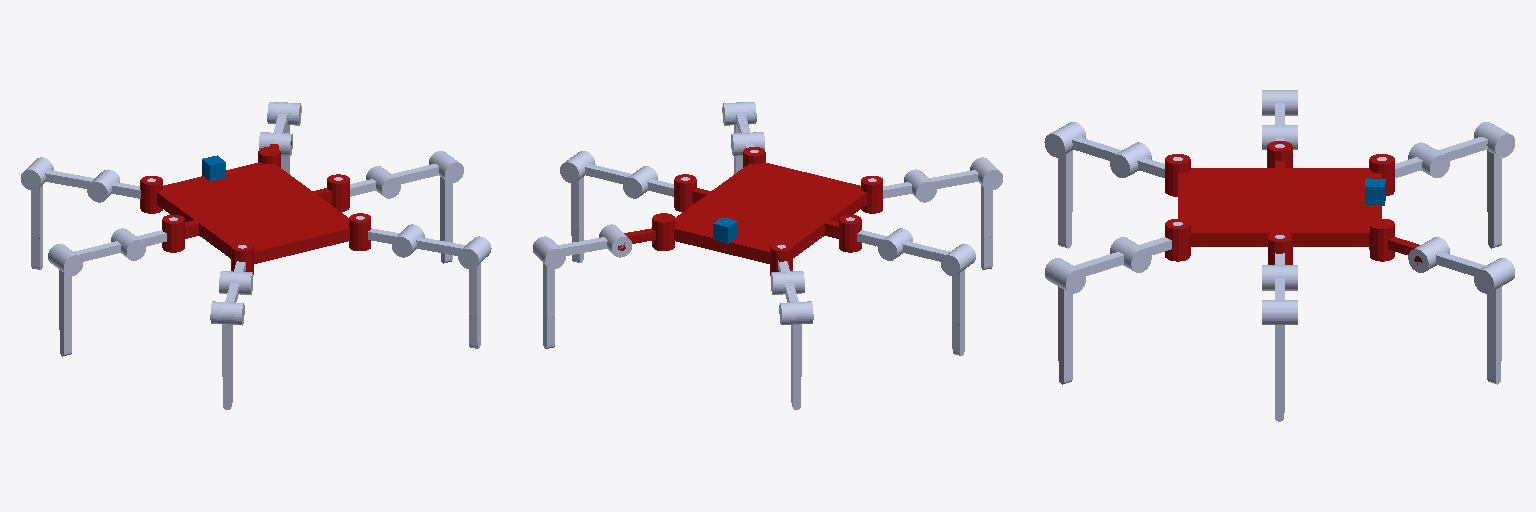
--- What the picture shows (computed from the rendered views, not written in the file) ---
Views: 3 orthographic renders of the robot side by side, from view 1: azimuth 30°, elevation 25°; view 2: azimuth 150°, elevation 25°; view 3: azimuth 270°, elevation 25°.
Robot: my_spideybot — 21 links, 20 joints (18 revolute, 2 fixed); root link dummy; default pose: every joint at zero.
Visible links, largest first — view 1: base_link, leg2_link, leg4_link, leg1_link, leg3_link, leg5_link, thigh3_link, thigh4_link, thigh2_link, thigh5_link, thigh1_link, leg6_link (+1 smaller); view 2: base_link, leg2_link, leg6_link, leg3_link, leg1_link, leg5_link, thigh1_link, thigh6_link, thigh2_link, thigh5_link, thigh3_link, leg4_link (+2 smaller); view 3: base_link, leg6_link, leg4_link, leg1_link, leg3_link, leg5_link, thigh3_link, thigh4_link, thigh1_link, thigh6_link, thigh5_link, thigh2_link (+2 smaller).
Link boxes in pixels (left/top/right/bottom): base_link: left=140, top=147, right=370, bottom=274; leg2_link: left=48, top=244, right=82, bottom=356; leg4_link: left=458, top=236, right=491, bottom=348; leg1_link: left=210, top=301, right=244, bottom=409; leg3_link: left=21, top=157, right=53, bottom=269; leg5_link: left=429, top=151, right=463, bottom=263; thigh3_link: left=27, top=169, right=119, bottom=202; thigh4_link: left=392, top=224, right=472, bottom=262; thigh2_link: left=70, top=228, right=145, bottom=269; thigh5_link: left=366, top=164, right=457, bottom=198; thigh1_link: left=219, top=271, right=252, bottom=316; leg6_link: left=267, top=102, right=301, bottom=173; base_link: left=652, top=147, right=882, bottom=275; leg2_link: left=941, top=244, right=975, bottom=355; leg6_link: left=533, top=236, right=565, bottom=348; leg3_link: left=779, top=301, right=813, bottom=409; leg1_link: left=970, top=157, right=1002, bottom=269; leg5_link: left=560, top=151, right=594, bottom=262; thigh1_link: left=904, top=169, right=996, bottom=202; thigh6_link: left=551, top=224, right=631, bottom=262; thigh2_link: left=878, top=228, right=953, bottom=268; thigh5_link: left=566, top=164, right=657, bottom=198; thigh3_link: left=771, top=271, right=804, bottom=316; leg4_link: left=722, top=102, right=756, bottom=173; base_link: left=1165, top=141, right=1394, bottom=264; leg6_link: left=1474, top=258, right=1514, bottom=384; leg4_link: left=1045, top=258, right=1085, bottom=384; leg1_link: left=1044, top=122, right=1085, bottom=248; leg3_link: left=1474, top=122, right=1514, bottom=248; leg5_link: left=1262, top=300, right=1297, bottom=421; thigh3_link: left=1408, top=137, right=1508, bottom=177; thigh4_link: left=1072, top=237, right=1151, bottom=286; thigh1_link: left=1051, top=136, right=1151, bottom=177; thigh6_link: left=1408, top=237, right=1487, bottom=285; thigh5_link: left=1262, top=265, right=1297, bottom=299; thigh2_link: left=1262, top=103, right=1297, bottom=149.
Size in the robot's own frame: 0.51 by 0.461 by 0.1426 metres.
Meshes: 19 distinct files referenced, 19 mesh visuals loaded (19 binary STL).

The robot description file, URDF, robot "my_spideybot":
<?xml version="1.0" encoding="utf-8"?>

<robot
  name="my_spideybot">
      <link name="dummy" />
    <joint name="dummy_base_link" type="fixed">
        <parent link="dummy" />
        <child link="base_link" />
    </joint>
  <link
    name="base_link">
    <inertial>
      <origin
        xyz="0.086929 -0.18825 0.11918"
        rpy="0 0 0" />
      <mass
        value="0.53458" />
      <inertia
        ixx="0.0020324"
        ixy="5.8234E-19"
        ixz="7.2524E-21"
        iyy="0.0015098"
        iyz="1.2138E-19"
        izz="0.0035077" />
    </inertial>
    <visual>
      <origin
        xyz="0 0 0"
        rpy="0 0 0" />
      <geometry>
        <mesh
          filename="package://my_spideybot/meshes/base_link.STL" />
      </geometry>
      <material
        name="">
        <color
          rgba="0.69412 0.098039 0.098039 1" />
      </material>
    </visual>
    <collision>
      <origin
        xyz="0 0 0"
        rpy="0 0 0" />
      <geometry>
        <mesh
          filename="package://my_spideybot/meshes/base_link.STL" />
      </geometry>
    </collision>
  </link>
  <link
    name="hip1_link">
    <inertial>
      <origin
        xyz="2.7756E-17 0.0175 0.02875"
        rpy="0 0 0" />
      <mass
        value="0.010462" />
      <inertia
        ixx="1.9878E-06"
        ixy="-1.2808E-23"
        ixz="-2.1176E-22"
        iyy="1.9878E-06"
        iyz="-4.8885E-13"
        izz="6.7997E-07" />
    </inertial>
    <visual>
      <origin
        xyz="0 0 0"
        rpy="0 0 0" />
      <geometry>
        <mesh
          filename="package://my_spideybot/meshes/hip1_link.STL" />
      </geometry>
      <material
        name="">
        <color
          rgba="0.79216 0.81961 0.93333 1" />
      </material>
    </visual>
    <collision>
      <origin
        xyz="0 0 0"
        rpy="0 0 0" />
      <geometry>
        <mesh
          filename="package://my_spideybot/meshes/hip1_link.STL" />
      </geometry>
    </collision>
  </link>
  <joint
    name="hip1_joint"
    type="revolute">
    <origin
      xyz="0.011929 -0.28825 0.10168"
      rpy="1.5708 0 -0.6435" />
    <parent
      link="base_link" />
    <child
      link="hip1_link" />
    <axis
      xyz="0 1 0" />
    <limit
      lower="-2.09"
      upper="2.09"
      effort="20"
      velocity="5" />
  </joint>
  <link
    name="thigh1_link">
    <inertial>
      <origin
        xyz="2.8109E-13 -2.3259E-06 0.018733"
        rpy="0 0 0" />
      <mass
        value="0.027144" />
      <inertia
        ixx="7.8675E-06"
        ixy="-1.8487E-17"
        ixz="-1.8122E-17"
        iyy="6.523E-06"
        iyz="-3.5464E-10"
        izz="2.8446E-06" />
    </inertial>
    <visual>
      <origin
        xyz="0 0 0"
        rpy="0 0 0" />
      <geometry>
        <mesh
          filename="package://my_spideybot/meshes/thigh1_link.STL" />
      </geometry>
      <material
        name="">
        <color
          rgba="0.79216 0.81961 0.93333 1" />
      </material>
    </visual>
    <collision>
      <origin
        xyz="0 0 0"
        rpy="0 0 0" />
      <geometry>
        <mesh
          filename="package://my_spideybot/meshes/thigh1_link.STL" />
      </geometry>
    </collision>
  </link>
  <joint
    name="thigh1_joint"
    type="revolute">
    <origin
      xyz="0 0.0175 0.0575"
      rpy="0 0 1.5708" />
    <parent
      link="hip1_link" />
    <child
      link="thigh1_link" />
    <axis
      xyz="0 -1 0" />
    <limit
      lower="-2.09"
      upper="2.09"
      effort="20"
      velocity="5" />
  </joint>
  <link
    name="leg1_link">
    <inertial>
      <origin
        xyz="2.7354E-05 -1.1102E-16 0.022876"
        rpy="0 0 0" />
      <mass
        value="0.028117" />
      <inertia
        ixx="2.0146E-05"
        ixy="8.4703E-22"
        ixz="-4.0889E-08"
        iyy="2.1225E-05"
        iyz="2.2443E-22"
        izz="2.6051E-06" />
    </inertial>
    <visual>
      <origin
        xyz="0 0 0"
        rpy="0 0 0" />
      <geometry>
        <mesh
          filename="package://my_spideybot/meshes/leg1_link.STL" />
      </geometry>
      <material
        name="">
        <color
          rgba="0.79216 0.81961 0.93333 1" />
      </material>
    </visual>
    <collision>
      <origin
        xyz="0 0 0"
        rpy="0 0 0" />
      <geometry>
        <mesh
          filename="package://my_spideybot/meshes/leg1_link.STL" />
      </geometry>
    </collision>
  </link>
  <joint
    name="leg1_joint"
    type="revolute">
    <origin
      xyz="0 0 0.08"
      rpy="1.5708 0 -1.5708" />
    <parent
      link="thigh1_link" />
    <child
      link="leg1_link" />
    <axis
      xyz="1 0 0" />
    <limit
      lower="-2.09"
      upper="2.09"
      effort="20"
      velocity="5" />
  </joint>
  <link
    name="hip2_link">
    <inertial>
      <origin
        xyz="0 -0.0175 -0.02875"
        rpy="0 0 0" />
      <mass
        value="0.010462" />
      <inertia
        ixx="1.9878E-06"
        ixy="2.0602E-24"
        ixz="7.0783E-23"
        iyy="1.9878E-06"
        iyz="-4.8885E-13"
        izz="6.7997E-07" />
    </inertial>
    <visual>
      <origin
        xyz="0 0 0"
        rpy="0 0 0" />
      <geometry>
        <mesh
          filename="package://my_spideybot/meshes/hip2_link.STL" />
      </geometry>
      <material
        name="">
        <color
          rgba="0.79216 0.81961 0.93333 1" />
      </material>
    </visual>
    <collision>
      <origin
        xyz="0 0 0"
        rpy="0 0 0" />
      <geometry>
        <mesh
          filename="package://my_spideybot/meshes/hip2_link.STL" />
      </geometry>
    </collision>
  </link>
  <joint
    name="hip2_joint"
    type="revolute">
    <origin
      xyz="-0.018071 -0.18825 0.10168"
      rpy="-1.5708 0 -1.5708" />
    <parent
      link="base_link" />
    <child
      link="hip2_link" />
    <axis
      xyz="0 -1 0" />
    <limit
      lower="-2.09"
      upper="2.09"
      effort="20"
      velocity="5" />
  </joint>
  <link
    name="thigh2_link">
    <inertial>
      <origin
        xyz="3.2477E-13 -2.3259E-06 0.018733"
        rpy="0 0 0" />
      <mass
        value="0.027144" />
      <inertia
        ixx="7.8675E-06"
        ixy="-2.1304E-17"
        ixz="1.0487E-17"
        iyy="6.523E-06"
        iyz="-3.5464E-10"
        izz="2.8446E-06" />
    </inertial>
    <visual>
      <origin
        xyz="0 0 0"
        rpy="0 0 0" />
      <geometry>
        <mesh
          filename="package://my_spideybot/meshes/thigh2_link.STL" />
      </geometry>
      <material
        name="">
        <color
          rgba="0.79216 0.81961 0.93333 1" />
      </material>
    </visual>
    <collision>
      <origin
        xyz="0 0 0"
        rpy="0 0 0" />
      <geometry>
        <mesh
          filename="package://my_spideybot/meshes/thigh2_link.STL" />
      </geometry>
    </collision>
  </link>
  <joint
    name="thigh2_joint"
    type="revolute">
    <origin
      xyz="0 -0.0175 -0.0575"
      rpy="3.1416 0 -1.5708" />
    <parent
      link="hip2_link" />
    <child
      link="thigh2_link" />
    <axis
      xyz="0 1 0" />
    <limit
      lower="-2.09"
      upper="2.09"
      effort="20"
      velocity="5" />
  </joint>
  <link
    name="leg2_link">
    <inertial>
      <origin
        xyz="2.7354E-05 3.9924E-13 0.022876"
        rpy="0 0 0" />
      <mass
        value="0.028117" />
      <inertia
        ixx="2.0146E-05"
        ixy="-1.5748E-14"
        ixz="-4.0889E-08"
        iyy="2.1225E-05"
        iyz="-5.9677E-16"
        izz="2.6051E-06" />
    </inertial>
    <visual>
      <origin
        xyz="0 0 0"
        rpy="0 0 0" />
      <geometry>
        <mesh
          filename="package://my_spideybot/meshes/leg2_link.STL" />
      </geometry>
      <material
        name="">
        <color
          rgba="0.79216 0.81961 0.93333 1" />
      </material>
    </visual>
    <collision>
      <origin
        xyz="0 0 0"
        rpy="0 0 0" />
      <geometry>
        <mesh
          filename="package://my_spideybot/meshes/leg2_link.STL" />
      </geometry>
    </collision>
  </link>
  <joint
    name="leg2_joint"
    type="revolute">
    <origin
      xyz="0 0 0.08"
      rpy="1.5708 0 -1.5708" />
    <parent
      link="thigh2_link" />
    <child
      link="leg2_link" />
    <axis
      xyz="1 0 0" />
    <limit
      lower="-2.09"
      upper="2.09"
      effort="20"
      velocity="5" />
  </joint>
  <link
    name="hip3_link">
    <inertial>
      <origin
        xyz="1.3878E-17 0.0175 0.02875"
        rpy="0 0 0" />
      <mass
        value="0.010462" />
      <inertia
        ixx="1.9878E-06"
        ixy="-2.7626E-23"
        ixz="-2.3823E-22"
        iyy="1.9878E-06"
        iyz="-4.8885E-13"
        izz="6.7997E-07" />
    </inertial>
    <visual>
      <origin
        xyz="0 0 0"
        rpy="0 0 0" />
      <geometry>
        <mesh
          filename="package://my_spideybot/meshes/hip3_link.STL" />
      </geometry>
      <material
        name="">
        <color
          rgba="0.79216 0.81961 0.93333 1" />
      </material>
    </visual>
    <collision>
      <origin
        xyz="0 0 0"
        rpy="0 0 0" />
      <geometry>
        <mesh
          filename="package://my_spideybot/meshes/hip3_link.STL" />
      </geometry>
    </collision>
  </link>
  <joint
    name="hip3_joint"
    type="revolute">
    <origin
      xyz="0.011929 -0.088245 0.10168"
      rpy="1.5708 0 -2.4981" />
    <parent
      link="base_link" />
    <child
      link="hip3_link" />
    <axis
      xyz="0 1 0" />
    <limit
      lower="-2.09"
      upper="2.09"
      effort="20"
      velocity="5" />
  </joint>
  <link
    name="thigh3_link">
    <inertial>
      <origin
        xyz="2.8109E-13 -2.3259E-06 0.018733"
        rpy="0 0 0" />
      <mass
        value="0.027144" />
      <inertia
        ixx="7.8675E-06"
        ixy="-1.8488E-17"
        ixz="-1.8124E-17"
        iyy="6.523E-06"
        iyz="-3.5464E-10"
        izz="2.8446E-06" />
    </inertial>
    <visual>
      <origin
        xyz="0 0 0"
        rpy="0 0 0" />
      <geometry>
        <mesh
          filename="package://my_spideybot/meshes/thigh3_link.STL" />
      </geometry>
      <material
        name="">
        <color
          rgba="0.79216 0.81961 0.93333 1" />
      </material>
    </visual>
    <collision>
      <origin
        xyz="0 0 0"
        rpy="0 0 0" />
      <geometry>
        <mesh
          filename="package://my_spideybot/meshes/thigh3_link.STL" />
      </geometry>
    </collision>
  </link>
  <joint
    name="thigh3_joint"
    type="revolute">
    <origin
      xyz="0 0.0175 0.0575"
      rpy="0 0 1.5708" />
    <parent
      link="hip3_link" />
    <child
      link="thigh3_link" />
    <axis
      xyz="0 1 0" />
    <limit
      lower="-2.09"
      upper="2.09"
      effort="20"
      velocity="5" />
  </joint>
  <link
    name="leg3_link">
    <inertial>
      <origin
        xyz="2.7354E-05 1.3878E-17 0.022876"
        rpy="0 0 0" />
      <mass
        value="0.028117" />
      <inertia
        ixx="2.0146E-05"
        ixy="-1.6941E-21"
        ixz="-4.0889E-08"
        iyy="2.1225E-05"
        iyz="-1.35E-21"
        izz="2.6051E-06" />
    </inertial>
    <visual>
      <origin
        xyz="0 0 0"
        rpy="0 0 0" />
      <geometry>
        <mesh
          filename="package://my_spideybot/meshes/leg3_link.STL" />
      </geometry>
      <material
        name="">
        <color
          rgba="0.79216 0.81961 0.93333 1" />
      </material>
    </visual>
    <collision>
      <origin
        xyz="0 0 0"
        rpy="0 0 0" />
      <geometry>
        <mesh
          filename="package://my_spideybot/meshes/leg3_link.STL" />
      </geometry>
    </collision>
  </link>
  <joint
    name="leg3_joint"
    type="revolute">
    <origin
      xyz="0 0 0.08"
      rpy="-1.5708 0 1.5708" />
    <parent
      link="thigh3_link" />
    <child
      link="leg3_link" />
    <axis
      xyz="1 0 0" />
    <limit
      lower="-2.09"
      upper="2.09"
      effort="20"
      velocity="5" />
  </joint>
  <link
    name="hip4_link">
    <inertial>
      <origin
        xyz="5.5511E-17 0.0175 0.02875"
        rpy="0 0 0" />
      <mass
        value="0.010462" />
      <inertia
        ixx="1.9878E-06"
        ixy="9.3745E-24"
        ixz="-1.1117E-21"
        iyy="1.9878E-06"
        iyz="-4.8885E-13"
        izz="6.7997E-07" />
    </inertial>
    <visual>
      <origin
        xyz="0 0 0"
        rpy="0 0 0" />
      <geometry>
        <mesh
          filename="package://my_spideybot/meshes/hip4_link.STL" />
      </geometry>
      <material
        name="">
        <color
          rgba="0.79216 0.81961 0.93333 1" />
      </material>
    </visual>
    <collision>
      <origin
        xyz="0 0 0"
        rpy="0 0 0" />
      <geometry>
        <mesh
          filename="package://my_spideybot/meshes/hip4_link.STL" />
      </geometry>
    </collision>
  </link>
  <joint
    name="hip4_joint"
    type="revolute">
    <origin
      xyz="0.16193 -0.28825 0.10168"
      rpy="1.5708 0 0.6435" />
    <parent
      link="base_link" />
    <child
      link="hip4_link" />
    <axis
      xyz="0 1 0" />
    <limit
      lower="-2.09"
      upper="2.09"
      effort="20"
      velocity="5" />
  </joint>
  <link
    name="thigh4_link">
    <inertial>
      <origin
        xyz="2.8111E-13 -2.3259E-06 0.018733"
        rpy="0 0 0" />
      <mass
        value="0.027144" />
      <inertia
        ixx="7.8675E-06"
        ixy="-1.8488E-17"
        ixz="-1.8123E-17"
        iyy="6.523E-06"
        iyz="-3.5464E-10"
        izz="2.8446E-06" />
    </inertial>
    <visual>
      <origin
        xyz="0 0 0"
        rpy="0 0 0" />
      <geometry>
        <mesh
          filename="package://my_spideybot/meshes/thigh4_link.STL" />
      </geometry>
      <material
        name="">
        <color
          rgba="0.79216 0.81961 0.93333 1" />
      </material>
    </visual>
    <collision>
      <origin
        xyz="0 0 0"
        rpy="0 0 0" />
      <geometry>
        <mesh
          filename="package://my_spideybot/meshes/thigh4_link.STL" />
      </geometry>
    </collision>
  </link>
  <joint
    name="thigh4_joint"
    type="revolute">
    <origin
      xyz="0 0.0175 0.0575"
      rpy="0 0 1.5708" />
    <parent
      link="hip4_link" />
    <child
      link="thigh4_link" />
    <axis
      xyz="0 -1 0" />
    <limit
      lower="-2.09"
      upper="2.09"
      effort="20"
      velocity="5" />
  </joint>
  <link
    name="leg4_link">
    <inertial>
      <origin
        xyz="2.7354E-05 5.5511E-17 0.022876"
        rpy="0 0 0" />
      <mass
        value="0.028117" />
      <inertia
        ixx="2.0146E-05"
        ixy="1.6941E-21"
        ixz="-4.0889E-08"
        iyy="2.1225E-05"
        iyz="-1.1551E-20"
        izz="2.6051E-06" />
    </inertial>
    <visual>
      <origin
        xyz="0 0 0"
        rpy="0 0 0" />
      <geometry>
        <mesh
          filename="package://my_spideybot/meshes/leg4_link.STL" />
      </geometry>
      <material
        name="">
        <color
          rgba="0.79216 0.81961 0.93333 1" />
      </material>
    </visual>
    <collision>
      <origin
        xyz="0 0 0"
        rpy="0 0 0" />
      <geometry>
        <mesh
          filename="package://my_spideybot/meshes/leg4_link.STL" />
      </geometry>
    </collision>
  </link>
  <joint
    name="leg4_joint"
    type="revolute">
    <origin
      xyz="0 0 0.08"
      rpy="1.5708 0 -1.5708" />
    <parent
      link="thigh4_link" />
    <child
      link="leg4_link" />
    <axis
      xyz="1 0 0" />
    <limit
      lower="-2.09"
      upper="2.09"
      effort="20"
      velocity="5" />
  </joint>
  <link
    name="hip5_link">
    <inertial>
      <origin
        xyz="0 0.0175 0.02875"
        rpy="0 0 0" />
      <mass
        value="0.010462" />
      <inertia
        ixx="1.9878E-06"
        ixy="1.4323E-24"
        ixz="-4.9299E-23"
        iyy="1.9878E-06"
        iyz="-4.8885E-13"
        izz="6.7997E-07" />
    </inertial>
    <visual>
      <origin
        xyz="0 0 0"
        rpy="0 0 0" />
      <geometry>
        <mesh
          filename="package://my_spideybot/meshes/hip5_link.STL" />
      </geometry>
      <material
        name="">
        <color
          rgba="0.79216 0.81961 0.93333 1" />
      </material>
    </visual>
    <collision>
      <origin
        xyz="0 0 0"
        rpy="0 0 0" />
      <geometry>
        <mesh
          filename="package://my_spideybot/meshes/hip5_link.STL" />
      </geometry>
    </collision>
  </link>
  <joint
    name="hip5_joint"
    type="revolute">
    <origin
      xyz="0.19193 -0.18825 0.10168"
      rpy="1.5708 0 1.5708" />
    <parent
      link="base_link" />
    <child
      link="hip5_link" />
    <axis
      xyz="0 1 0" />
    <limit
      lower="-2.09"
      upper="2.09"
      effort="20"
      velocity="5" />
  </joint>
  <link
    name="thigh5_link">
    <inertial>
      <origin
        xyz="3.2482E-13 -2.3259E-06 0.018733"
        rpy="0 0 0" />
      <mass
        value="0.027144" />
      <inertia
        ixx="7.8675E-06"
        ixy="-2.1304E-17"
        ixz="1.0487E-17"
        iyy="6.523E-06"
        iyz="-3.5464E-10"
        izz="2.8446E-06" />
    </inertial>
    <visual>
      <origin
        xyz="0 0 0"
        rpy="0 0 0" />
      <geometry>
        <mesh
          filename="package://my_spideybot/meshes/thigh5_link.STL" />
      </geometry>
      <material
        name="">
        <color
          rgba="0.79216 0.81961 0.93333 1" />
      </material>
    </visual>
    <collision>
      <origin
        xyz="0 0 0"
        rpy="0 0 0" />
      <geometry>
        <mesh
          filename="package://my_spideybot/meshes/thigh5_link.STL" />
      </geometry>
    </collision>
  </link>
  <joint
    name="thigh5_joint"
    type="revolute">
    <origin
      xyz="0 0.0175 0.0575"
      rpy="0 0 -1.5708" />
    <parent
      link="hip5_link" />
    <child
      link="thigh5_link" />
    <axis
      xyz="0 -1 0" />
    <limit
      lower="-2.09"
      upper="2.09"
      effort="20"
      velocity="5" />
  </joint>
  <link
    name="leg5_link">
    <inertial>
      <origin
        xyz="2.7354E-05 5.5511E-17 0.022876"
        rpy="0 0 0" />
      <mass
        value="0.028117" />
      <inertia
        ixx="2.0146E-05"
        ixy="1.2116E-22"
        ixz="-4.0889E-08"
        iyy="2.1225E-05"
        iyz="-3.431E-22"
        izz="2.6051E-06" />
    </inertial>
    <visual>
      <origin
        xyz="0 0 0"
        rpy="0 0 0" />
      <geometry>
        <mesh
          filename="package://my_spideybot/meshes/leg5_link.STL" />
      </geometry>
      <material
        name="">
        <color
          rgba="0.79216 0.81961 0.93333 1" />
      </material>
    </visual>
    <collision>
      <origin
        xyz="0 0 0"
        rpy="0 0 0" />
      <geometry>
        <mesh
          filename="package://my_spideybot/meshes/leg5_link.STL" />
      </geometry>
    </collision>
  </link>
  <joint
    name="leg5_joint"
    type="revolute">
    <origin
      xyz="0 0 0.08"
      rpy="-1.5708 0 -1.5708" />
    <parent
      link="thigh5_link" />
    <child
      link="leg5_link" />
    <axis
      xyz="1 0 0" />
    <limit
      lower="-2.09"
      upper="2.09"
      effort="20"
      velocity="5" />
  </joint>
  <link
    name="hip6_link">
    <inertial>
      <origin
        xyz="0.086929 -0.18825 0.11918"
        rpy="0 0 0" />
      <mass
        value="0.53458" />
      <inertia
        ixx="0.0020324"
        ixy="5.8234E-19"
        ixz="7.2524E-21"
        iyy="0.0015098"
        iyz="1.2138E-19"
        izz="0.0035077" />
    </inertial>
    <visual>
      <origin
        xyz="0 0 0"
        rpy="0 0 0" />
      <geometry>
        <mesh
          filename="package://my_spideybot/meshes/hip6_link.STL" />
      </geometry>
      <material
        name="">
        <color
          rgba="0.69412 0.098039 0.098039 1" />
      </material>
    </visual>
    <collision>
      <origin
        xyz="0 0 0"
        rpy="0 0 0" />
      <geometry>
        <mesh
          filename="package://my_spideybot/meshes/hip6_link.STL" />
      </geometry>
    </collision>
  </link>
  <joint
    name="hip6_joint"
    type="revolute">
    <origin
      xyz="0.16193 -0.088245 0.10168"
      rpy="1.5708 0 2.4981" />
    <parent
      link="base_link" />
    <child
      link="hip6_link" />
    <axis
      xyz="0 1 0" />
    <limit
      lower="-2.09"
      upper="2.09"
      effort="20"
      velocity="5" />
  </joint>
  <link
    name="thigh6_link">
    <inertial>
      <origin
        xyz="2.8109E-13 -2.3259E-06 0.018733"
        rpy="0 0 0" />
      <mass
        value="0.027144" />
      <inertia
        ixx="7.8675E-06"
        ixy="-1.8487E-17"
        ixz="-1.8124E-17"
        iyy="6.523E-06"
        iyz="-3.5464E-10"
        izz="2.8446E-06" />
    </inertial>
    <visual>
      <origin
        xyz="0 0 0"
        rpy="0 0 0" />
      <geometry>
        <mesh
          filename="package://my_spideybot/meshes/thigh6_link.STL" />
      </geometry>
      <material
        name="">
        <color
          rgba="0.79216 0.81961 0.93333 1" />
      </material>
    </visual>
    <collision>
      <origin
        xyz="0 0 0"
        rpy="0 0 0" />
      <geometry>
        <mesh
          filename="package://my_spideybot/meshes/thigh6_link.STL" />
      </geometry>
    </collision>
  </link>
  <joint
    name="thigh6_joint"
    type="revolute">
    <origin
      xyz="0 0.0175 0.0575"
      rpy="0 0 -1.5708" />
    <parent
      link="hip6_link" />
    <child
      link="thigh6_link" />
    <axis
      xyz="0 -1 0" />
    <limit
      lower="-2.09"
      upper="2.09"
      effort="20"
      velocity="5" />
  </joint>
  <link
    name="leg6_link">
    <inertial>
      <origin
        xyz="2.7354E-05 5.5511E-17 0.022876"
        rpy="0 0 0" />
      <mass
        value="0.028117" />
      <inertia
        ixx="2.0146E-05"
        ixy="1.6941E-21"
        ixz="-4.0889E-08"
        iyy="2.1225E-05"
        iyz="-6.3682E-21"
        izz="2.6051E-06" />
    </inertial>
    <visual>
      <origin
        xyz="0 0 0"
        rpy="0 0 0" />
      <geometry>
        <mesh
          filename="package://my_spideybot/meshes/leg6_link.STL" />
      </geometry>
      <material
        name="">
        <color
          rgba="0.79216 0.81961 0.93333 1" />
      </material>
    </visual>
    <collision>
      <origin
        xyz="0 0 0"
        rpy="0 0 0" />
      <geometry>
        <mesh
          filename="package://my_spideybot/meshes/leg6_link.STL" />
      </geometry>
    </collision>
  </link>
  <joint
    name="leg6_joint"
    type="revolute">
    <origin
      xyz="0 0 0.08"
      rpy="-1.5708 0 -1.5708" />
    <parent
      link="thigh6_link" />
    <child
      link="leg6_link" />
    <axis
      xyz="1 0 0" />
    <limit
      lower="-2.09"
      upper="2.09"
      effort="20"
      velocity="5" />
  </joint>
  <!-- Transmission of joint -->
  <transmission name="trans1">
    <type>transmission_interface/SimpleTransmission</type>
    <joint name="hip1_joint">
      <hardwareInterface>hardware_interface/EffortJointInterface</hardwareInterface>
    </joint>
    <actuator name="motor1">
      <hardwareInterface>hardware_interface/EffortJointInterface</hardwareInterface>
      <mechanicalReduction>1</mechanicalReduction>
    </actuator>
  </transmission>

  <transmission name="trans2">
    <type>transmission_interface/SimpleTransmission</type>
    <joint name="thigh1_joint">
      <hardwareInterface>hardware_interface/EffortJointInterface</hardwareInterface>
    </joint>
    <actuator name="motor2">
      <hardwareInterface>hardware_interface/EffortJointInterface</hardwareInterface>
      <mechanicalReduction>1</mechanicalReduction>
    </actuator>
  </transmission>

  <transmission name="trans3">
    <type>transmission_interface/SimpleTransmission</type>
    <joint name="leg1_joint">
      <hardwareInterface>hardware_interface/EffortJointInterface</hardwareInterface>
    </joint>
    <actuator name="motor3">
      <hardwareInterface>hardware_interface/EffortJointInterface</hardwareInterface>
      <mechanicalReduction>1</mechanicalReduction>
    </actuator>
  </transmission>

  <transmission name="trans4">
    <type>transmission_interface/SimpleTransmission</type>
    <joint name="hip2_joint">
      <hardwareInterface>hardware_interface/EffortJointInterface</hardwareInterface>
    </joint>
    <actuator name="motor4">
      <hardwareInterface>hardware_interface/EffortJointInterface</hardwareInterface>
      <mechanicalReduction>1</mechanicalReduction>
    </actuator>
  </transmission>

  <transmission name="trans5">
    <type>transmission_interface/SimpleTransmission</type>
    <joint name="thigh2_joint">
      <hardwareInterface>hardware_interface/EffortJointInterface</hardwareInterface>
    </joint>
    <actuator name="motor5">
      <hardwareInterface>hardware_interface/EffortJointInterface</hardwareInterface>
      <mechanicalReduction>1</mechanicalReduction>
    </actuator>
  </transmission>

  <transmission name="trans6">
    <type>transmission_interface/SimpleTransmission</type>
    <joint name="leg2_joint">
      <hardwareInterface>hardware_interface/EffortJointInterface</hardwareInterface>
    </joint>
    <actuator name="motor6">
      <hardwareInterface>hardware_interface/EffortJointInterface</hardwareInterface>
      <mechanicalReduction>1</mechanicalReduction>
    </actuator>
  </transmission>

  <transmission name="trans7">
    <type>transmission_interface/SimpleTransmission</type>
    <joint name="hip3_joint">
      <hardwareInterface>hardware_interface/EffortJointInterface</hardwareInterface>
    </joint>
    <actuator name="motor7">
      <hardwareInterface>hardware_interface/EffortJointInterface</hardwareInterface>
      <mechanicalReduction>1</mechanicalReduction>
    </actuator>
  </transmission>

  <transmission name="trans8">
    <type>transmission_interface/SimpleTransmission</type>
    <joint name="thigh3_joint">
      <hardwareInterface>hardware_interface/EffortJointInterface</hardwareInterface>
    </joint>
    <actuator name="motor8">
      <hardwareInterface>hardware_interface/EffortJointInterface</hardwareInterface>
      <mechanicalReduction>1</mechanicalReduction>
    </actuator>
  </transmission>

  <transmission name="trans9">
    <type>transmission_interface/SimpleTransmission</type>
    <joint name="leg3_joint">
      <hardwareInterface>hardware_interface/EffortJointInterface</hardwareInterface>
    </joint>
    <actuator name="motor9">
      <hardwareInterface>hardware_interface/EffortJointInterface</hardwareInterface>
      <mechanicalReduction>1</mechanicalReduction>
    </actuator>
  </transmission>

  <transmission name="trans10">
    <type>transmission_interface/SimpleTransmission</type>
    <joint name="hip4_joint">
      <hardwareInterface>hardware_interface/EffortJointInterface</hardwareInterface>
    </joint>
    <actuator name="motor10">
      <hardwareInterface>hardware_interface/EffortJointInterface</hardwareInterface>
      <mechanicalReduction>1</mechanicalReduction>
    </actuator>
  </transmission>

  <transmission name="trans11">
    <type>transmission_interface/SimpleTransmission</type>
    <joint name="thigh4_joint">
      <hardwareInterface>hardware_interface/EffortJointInterface</hardwareInterface>
    </joint>
    <actuator name="motor11">
      <hardwareInterface>hardware_interface/EffortJointInterface</hardwareInterface>
      <mechanicalReduction>1</mechanicalReduction>
    </actuator>
  </transmission>

  <transmission name="trans12">
    <type>transmission_interface/SimpleTransmission</type>
    <joint name="leg4_joint">
      <hardwareInterface>hardware_interface/EffortJointInterface</hardwareInterface>
    </joint>
    <actuator name="motor12">
      <hardwareInterface>hardware_interface/EffortJointInterface</hardwareInterface>
      <mechanicalReduction>1</mechanicalReduction>
    </actuator>
  </transmission>

  <transmission name="trans13">
    <type>transmission_interface/SimpleTransmission</type>
    <joint name="hip5_joint">
      <hardwareInterface>hardware_interface/EffortJointInterface</hardwareInterface>
    </joint>
    <actuator name="motor13">
      <hardwareInterface>hardware_interface/EffortJointInterface</hardwareInterface>
      <mechanicalReduction>1</mechanicalReduction>
    </actuator>
  </transmission>

  <transmission name="trans14">
    <type>transmission_interface/SimpleTransmission</type>
    <joint name="thigh5_joint">
      <hardwareInterface>hardware_interface/EffortJointInterface</hardwareInterface>
    </joint>
    <actuator name="motor14">
      <hardwareInterface>hardware_interface/EffortJointInterface</hardwareInterface>
      <mechanicalReduction>1</mechanicalReduction>
    </actuator>
  </transmission>

  <transmission name="trans15">
    <type>transmission_interface/SimpleTransmission</type>
    <joint name="leg5_joint">
      <hardwareInterface>hardware_interface/EffortJointInterface</hardwareInterface>
    </joint>
    <actuator name="motor15">
      <hardwareInterface>hardware_interface/EffortJointInterface</hardwareInterface>
      <mechanicalReduction>1</mechanicalReduction>
    </actuator>
  </transmission>

  <transmission name="trans16">
    <type>transmission_interface/SimpleTransmission</type>
    <joint name="hip6_joint">
      <hardwareInterface>hardware_interface/EffortJointInterface</hardwareInterface>
    </joint>
    <actuator name="motor16">
      <hardwareInterface>hardware_interface/EffortJointInterface</hardwareInterface>
      <mechanicalReduction>1</mechanicalReduction>
    </actuator>
  </transmission>

  <transmission name="trans17">
    <type>transmission_interface/SimpleTransmission</type>
    <joint name="thigh6_joint">
      <hardwareInterface>hardware_interface/EffortJointInterface</hardwareInterface>
    </joint>
    <actuator name="motor17">
      <hardwareInterface>hardware_interface/EffortJointInterface</hardwareInterface>
      <mechanicalReduction>1</mechanicalReduction>
    </actuator>
  </transmission>

  <transmission name="trans18">
    <type>transmission_interface/SimpleTransmission</type>
    <joint name="leg6_joint">
      <hardwareInterface>hardware_interface/EffortJointInterface</hardwareInterface>
    </joint>
    <actuator name="motor18">
      <hardwareInterface>hardware_interface/EffortJointInterface</hardwareInterface>
      <mechanicalReduction>1</mechanicalReduction>
    </actuator>
  </transmission>

  <!-- Controller plugin -->
  <gazebo>
    <plugin filename="libgazebo_ros_control.so" name="gazebo_ros_control">
      <robotNamespace>/my_spideybot</robotNamespace>
      <robotSimType>gazebo_ros_control/DefaultRobotHWSim</robotSimType>
    </plugin>
  </gazebo>

  <link name="camera_link">
    <visual>
      <origin xyz="0.0 0.0 0.0" rpy="0.0 0.0 0.0" />
      <geometry>
        <box size="0.02 0.02 0.02" />
      </geometry>
    </visual>
  </link>

  <joint name="camera_joint" type="fixed">
    <origin xyz="0.086929 -0.095 0.136" rpy="0.0 0.0 1.52" />
    <parent link="base_link" />
    <child link="camera_link" />
  </joint>

  <gazebo reference="camera_link">
    <sensor type="camera" name="camera1">
      <update_rate>30.0</update_rate>
      <camera name="head">
        <horizontal_fov>1.3962634</horizontal_fov>
        <image>
          <width>800</width>
          <height>800</height>
          <format>R8G8B8</format>
        </image>
        <clip>
          <near>0.02</near>
          <far>300</far>
        </clip>
      </camera>
      <plugin name="camera_controller" filename="libgazebo_ros_camera.so">
        <alwaysOn>true</alwaysOn>
        <updateRate>0.0</updateRate>
        <cameraName>my_spideybot/camera1</cameraName>
        <imageTopicName>image_raw</imageTopicName>
        <cameraInfoTopicName>camera_info</cameraInfoTopicName>
        <frameName>camera_link</frameName>
        <hackBaseline>0.07</hackBaseline>
        <distortionK1>0.0</distortionK1>
        <distortionK2>0.0</distortionK2>
        <distortionK3>0.0</distortionK3>
        <distortionT1>0.0</distortionT1>
        <distortionT2>0.0</distortionT2>
      </plugin>
    </sensor>
  </gazebo>

  <gazebo reference="camera_link">
    <material>Gazebo/Green</material>
    <turnGravityOff>false</turnGravityOff>
  </gazebo>
  <gazebo reference="base_link">
    <material>Gazebo/Red</material>
    <turnGravityOff>false</turnGravityOff>
  </gazebo>
  <gazebo reference="hip1_link">
    <material>Gazebo/Blue</material>
    <turnGravityOff>false</turnGravityOff>
  </gazebo>
  <gazebo reference="thigh1_link">
    <material>Gazebo/Orange</material>
    <turnGravityOff>false</turnGravityOff>
  </gazebo>
  <gazebo reference="leg1_link">
    <material>Gazebo/Orange</material>
    <turnGravityOff>false</turnGravityOff>
  </gazebo>

  <gazebo reference="hip2_link">
    <material>Gazebo/Blue</material>
    <turnGravityOff>false</turnGravityOff>
  </gazebo>
  <gazebo reference="thigh2_link">
    <material>Gazebo/Orange</material>
    <turnGravityOff>false</turnGravityOff>
  </gazebo>
  <gazebo reference="leg2_link">
    <material>Gazebo/Orange</material>
    <turnGravityOff>false</turnGravityOff>
  </gazebo>

  <gazebo reference="hip3_link">
    <material>Gazebo/Blue</material>
    <turnGravityOff>false</turnGravityOff>
  </gazebo>
  <gazebo reference="thigh3_link">
    <material>Gazebo/Orange</material>
    <turnGravityOff>false</turnGravityOff>
  </gazebo>
  <gazebo reference="leg3_link">
    <material>Gazebo/Orange</material>
    <turnGravityOff>false</turnGravityOff>
  </gazebo>

  <gazebo reference="hip4_link">
    <material>Gazebo/Blue</material>
    <turnGravityOff>false</turnGravityOff>
  </gazebo>
  <gazebo reference="thigh4_link">
    <material>Gazebo/Orange</material>
    <turnGravityOff>false</turnGravityOff>
  </gazebo>
  <gazebo reference="leg4_link">
    <material>Gazebo/Orange</material>
    <turnGravityOff>false</turnGravityOff>
  </gazebo>

  <gazebo reference="hip5_link">
    <material>Gazebo/Blue</material>
    <turnGravityOff>false</turnGravityOff>
  </gazebo>
  <gazebo reference="thigh5_link">
    <material>Gazebo/Orange</material>
    <turnGravityOff>false</turnGravityOff>
  </gazebo>
  <gazebo reference="leg5_link">
    <material>Gazebo/Orange</material>
    <turnGravityOff>false</turnGravityOff>
  </gazebo>

  <gazebo reference="hip6_link">
    <material>Gazebo/Blue</material>
    <turnGravityOff>false</turnGravityOff>
  </gazebo>
  <gazebo reference="thigh6_link">
    <material>Gazebo/Orange</material>
    <turnGravityOff>false</turnGravityOff>
  </gazebo>
  <gazebo reference="leg6_link">
    <material>Gazebo/Orange</material>
    <turnGravityOff>false</turnGravityOff>
  </gazebo>
    

  
</robot>
